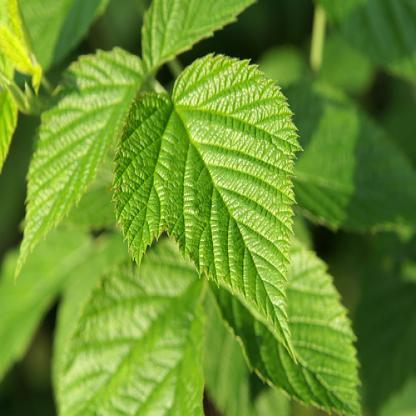Raspberry leaf: (116, 52, 298, 343)
